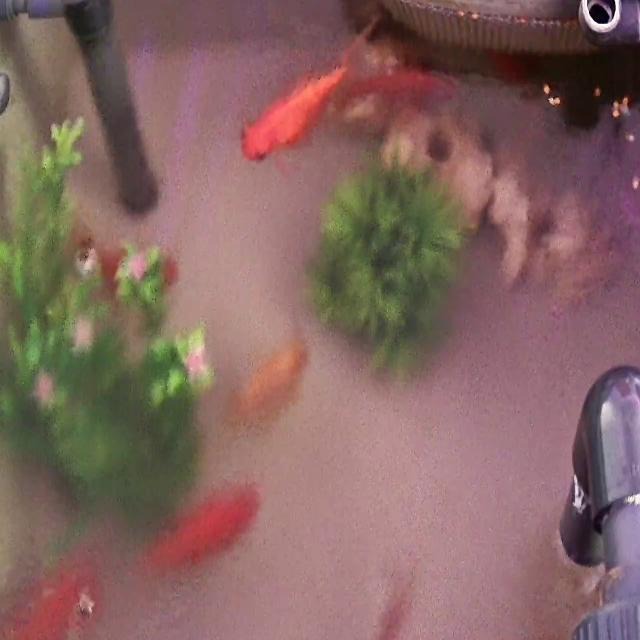fish: (140, 484, 265, 574), (0, 545, 106, 640), (239, 63, 335, 161), (228, 340, 308, 430), (315, 567, 407, 640), (340, 66, 440, 115)
